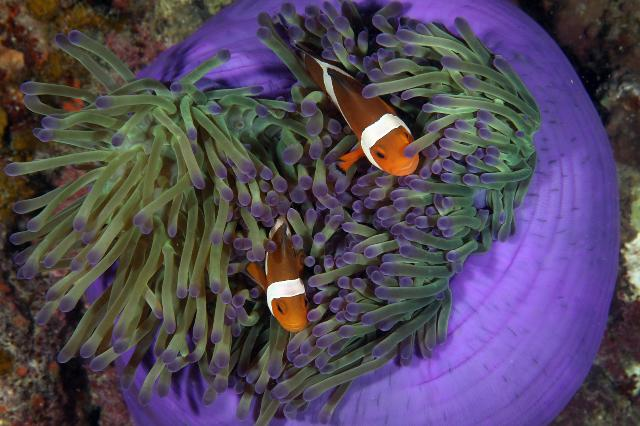Mulut: (386, 150, 434, 188), (276, 311, 314, 345)
Sirip Dada: (324, 139, 368, 181), (234, 251, 268, 302)
Sirip Punggung: (286, 26, 354, 100)
